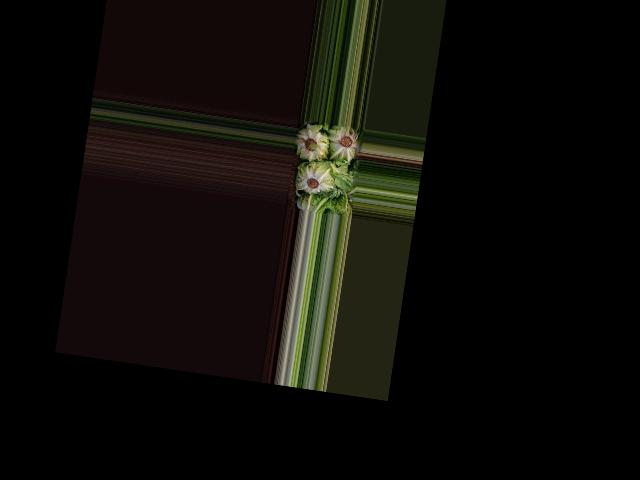lettuce: (324, 124, 360, 163)
